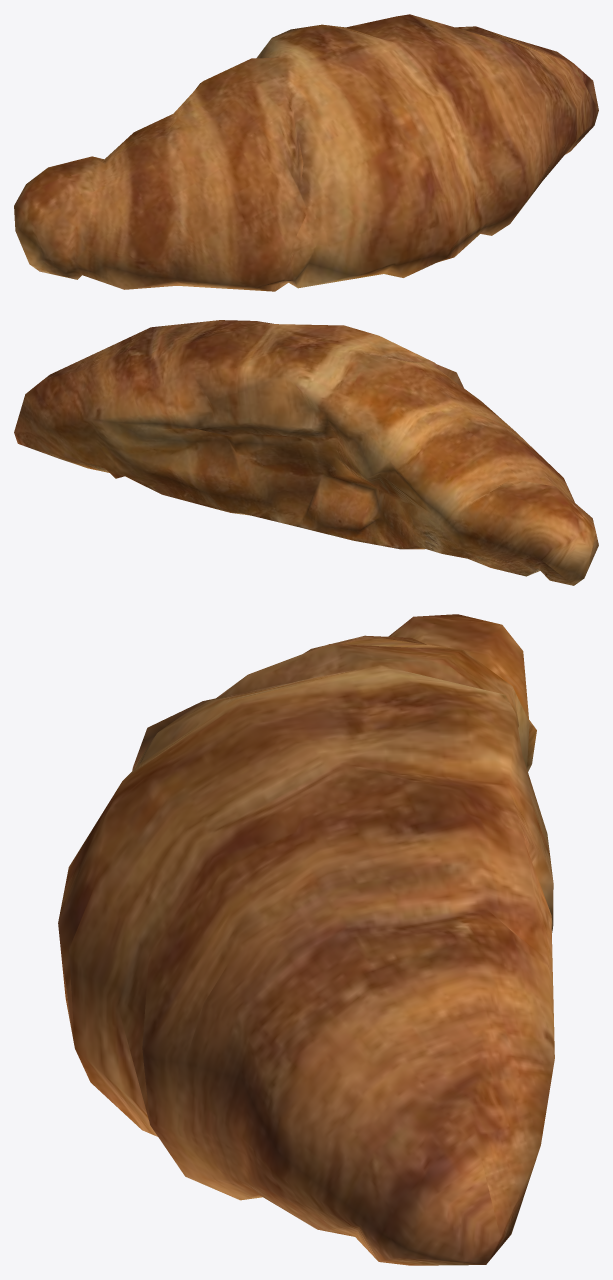
File: croissant.glb
3 renders of one model, top to bottom at view 1: azimuth 30°, elevation 25°; view 2: azimuth 150°, elevation 25°; view 3: azimuth 270°, elevation 25°, orthographic. The views are drawn at different scales.
Visible parts, largest first — view 1: croissant; view 2: croissant; view 3: croissant.
Part boxes in pixels (x1,y1,x2,y2): croissant: [14, 14, 598, 291]; croissant: [14, 320, 598, 585]; croissant: [58, 614, 554, 1265].
Bounding box in the file's own units: 0.1993 × 0.0617 × 0.075.
Materials: 1 (1 with a texture image).
